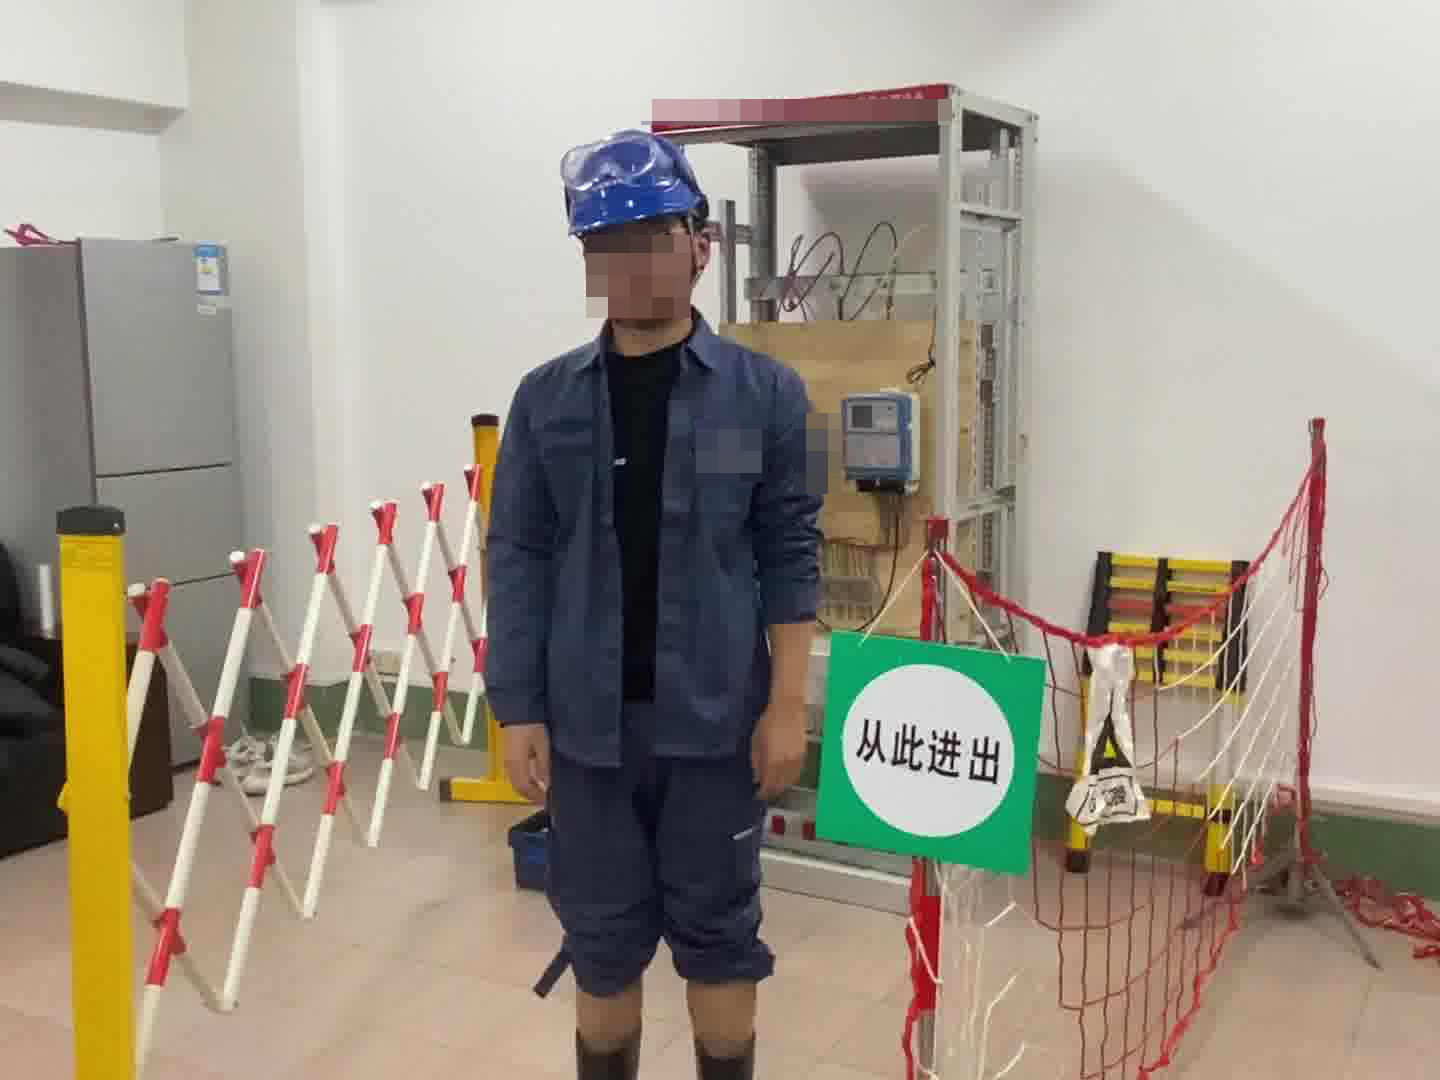downsuit: (554, 770, 746, 991)
halt: (560, 129, 723, 347)
hand: (743, 713, 810, 800), (497, 720, 555, 802)
inear: (674, 220, 724, 294)
intosign: (798, 623, 1045, 880)
person: (472, 122, 836, 1079)
sleeve: (805, 417, 832, 478)
upsuit: (479, 323, 828, 760)
wrongbottom: (556, 931, 774, 1080)
wrongsuit: (583, 352, 704, 760)
wrongtop: (745, 508, 827, 801)
